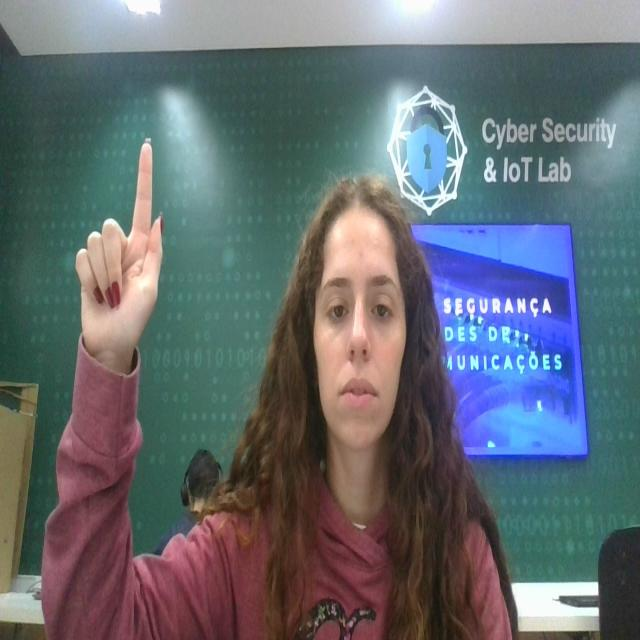G: (72, 124, 170, 369)
